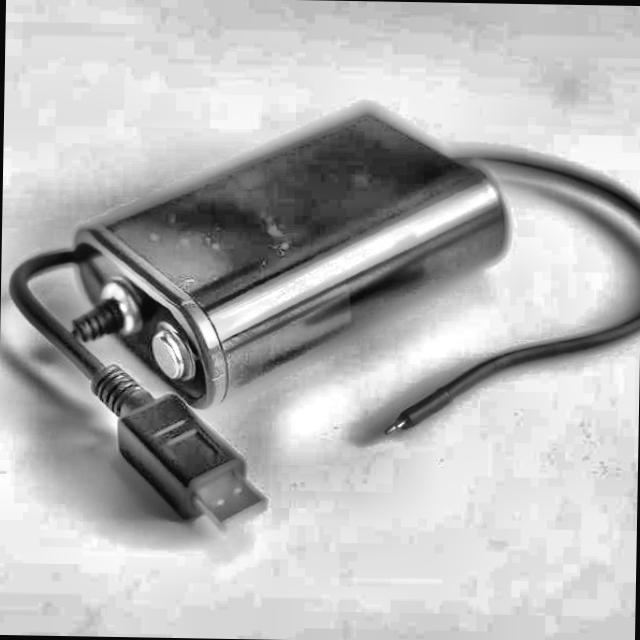Battery: (68, 99, 510, 423)
Cable: (4, 138, 640, 537)
